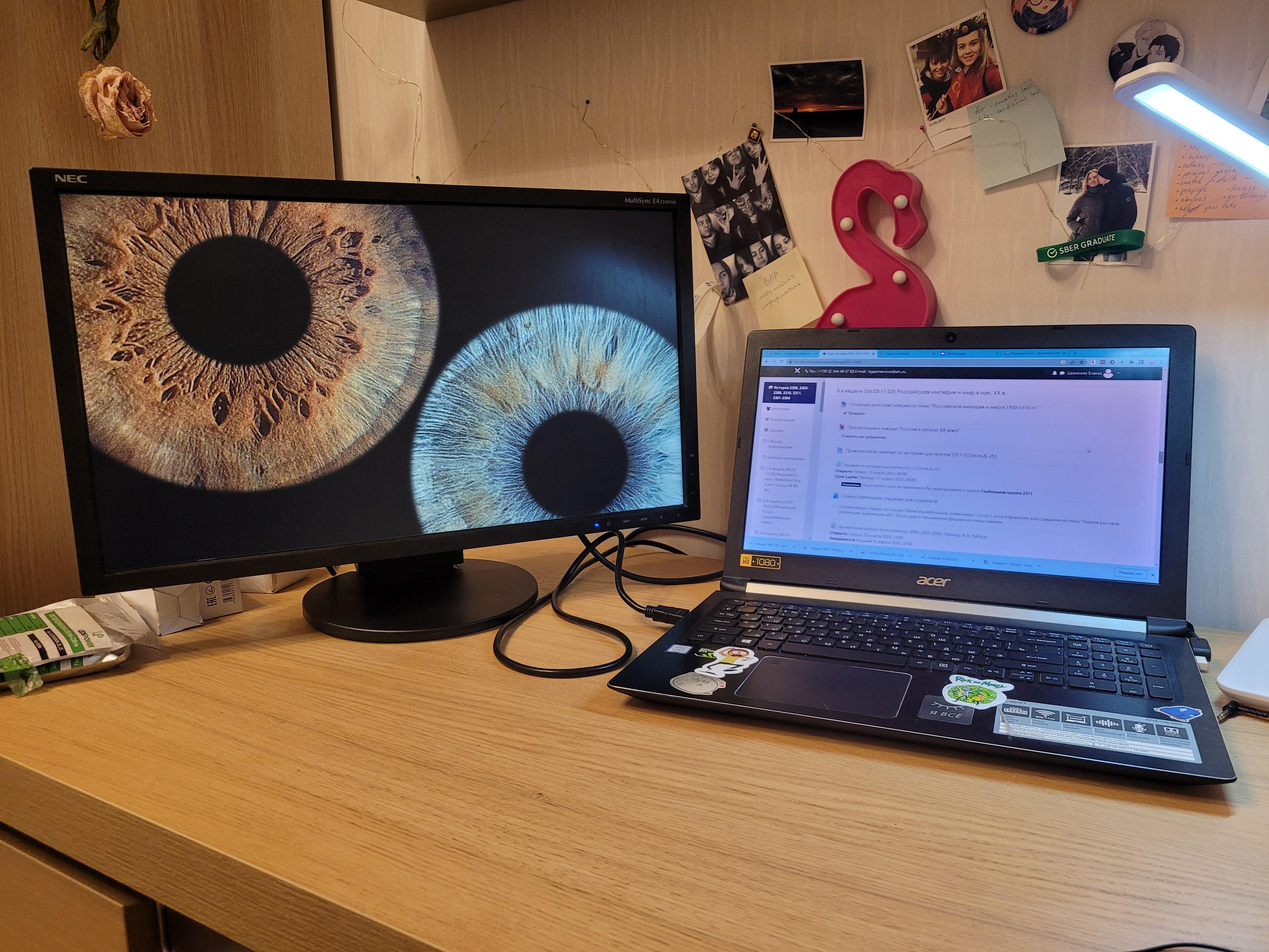monitor: (27, 162, 702, 601), (721, 318, 1201, 620)
